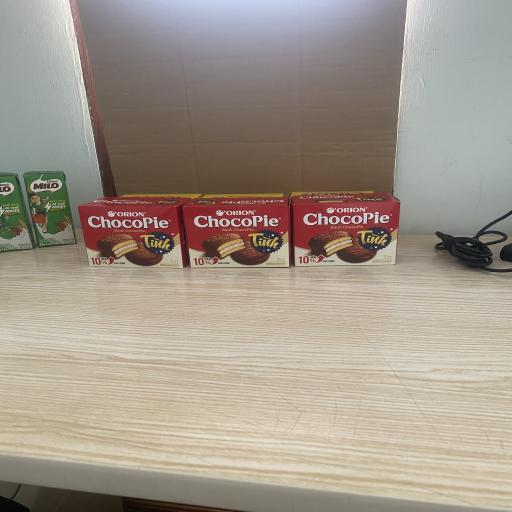chocopie: (77, 195, 192, 268), (290, 192, 401, 266), (181, 195, 290, 268)
custas: (119, 193, 203, 199), (290, 191, 375, 196), (203, 193, 284, 198)
milo: (22, 170, 78, 248), (0, 172, 37, 253)
